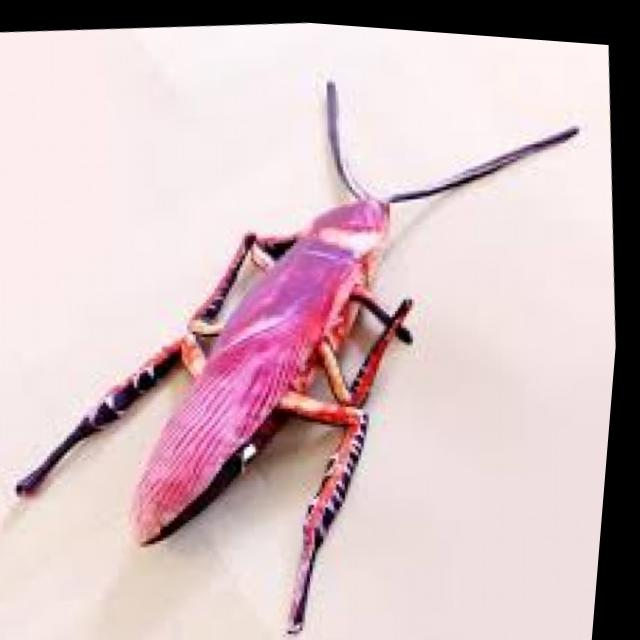Cockroach: (0, 36, 587, 635)
